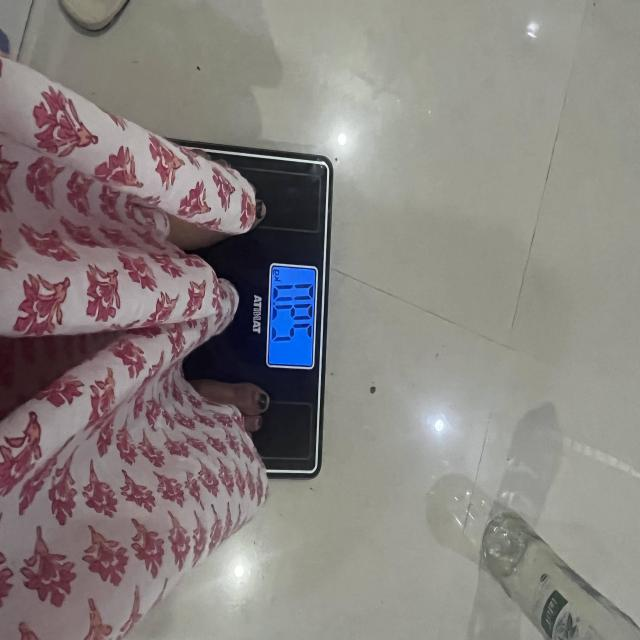ws: (195, 145, 331, 480)
